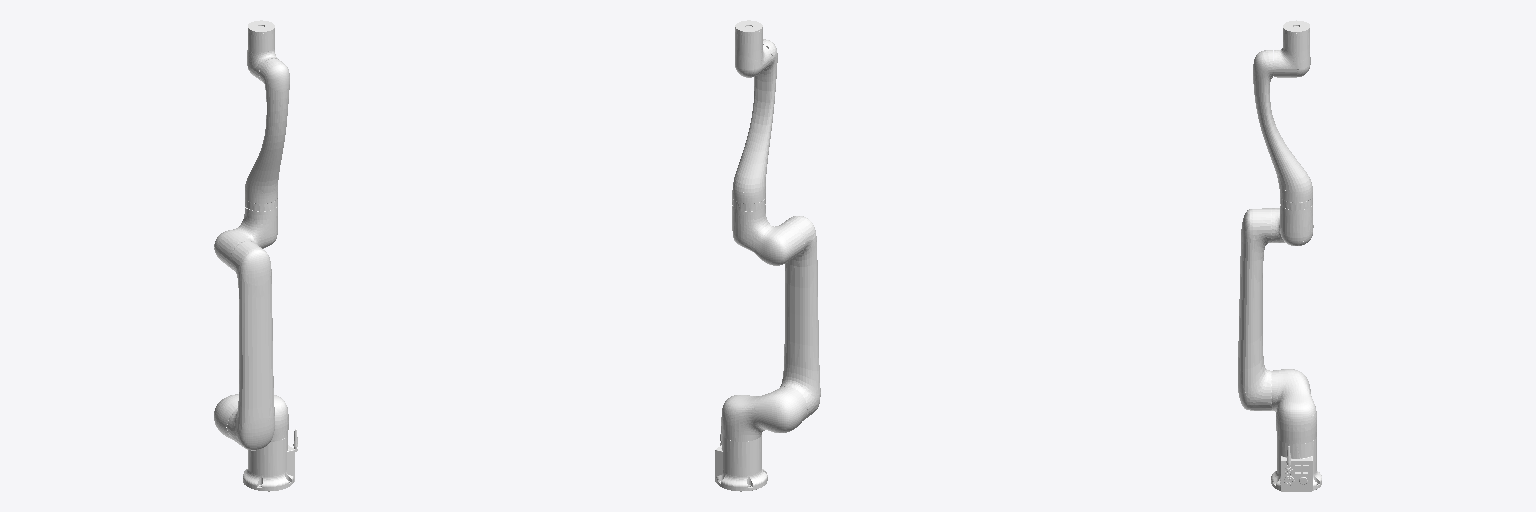
The robot description file, URDF, robot "rm_63_6f_description":
<?xml version="1.0" encoding="utf-8"?>
<!-- This URDF was automatically created by SolidWorks to URDF Exporter! Originally created by Stephen Brawner (brawner@gmail.com) 
     Commit Version: 1.6.0-1-g15f4949  Build Version: 1.6.7594.29634
     For more information, please see http://wiki.ros.org/sw_urdf_exporter -->
<robot
  name="rm_63_6f_description">
  <link
    name="base_link">
    <inertial>
      <origin
        xyz="0.0014213 -0.00010164 0.050087"
        rpy="0 0 0" />
      <mass
        value="1.862" />
      <inertia
        ixx="0.00099641"
        ixy="-3.2815E-06"
        ixz="1.0053E-05"
        iyy="0.0010164"
        iyz="-1.2859E-06"
        izz="0.00067934" />
    </inertial>
    <visual>
      <origin
        xyz="0 0 0"
        rpy="0 0 0" />
      <geometry>
        <mesh
          filename="package://rm_description/meshes/rm_63_arm/base_link.STL" />
      </geometry>
      <material
        name="">
        <color
          rgba="1 1 1 1" />
      </material>
    </visual>
    <collision>
      <origin
        xyz="0 0 0"
        rpy="0 0 0" />
      <geometry>
        <mesh
          filename="package://rm_description/meshes/rm_63_arm/base_link.STL" />
      </geometry>
    </collision>
  </link>
  <link
    name="Link1">
    <inertial>
      <origin
        xyz="-0.068442 -0.023913 -0.006938"
        rpy="0 0 0" />
      <mass
        value="1.837" />
      <inertia
        ixx="0.002323337"
        ixy="-0.000758998"
        ixz="0.000825985"
        iyy="0.003950377"
        iyz="0.000254693"
        izz="0.003921999" />
    </inertial>
    <visual>
      <origin
        xyz="0 0 0"
        rpy="0 0 0" />
      <geometry>
        <mesh
          filename="package://rm_description/meshes/rm_63_arm/link1.STL" />
      </geometry>
      <material
        name="">
        <color
          rgba="1 1 1 1" />
      </material>
    </visual>
    <collision>
      <origin
        xyz="0 0 0"
        rpy="0 0 0" />
      <geometry>
        <mesh
          filename="package://rm_description/meshes/rm_63_arm/link1.STL" />
      </geometry>
    </collision>
  </link>
  <joint
    name="joint1"
    type="revolute">
    <origin
      xyz="0 0 0.172"
      rpy="0 0 0" />
    <parent
      link="base_link" />
    <child
      link="Link1" />
    <axis
      xyz="0 0 1" />
    <limit
      lower="-3.106"
      upper="3.106"
      effort="60"
      velocity="3.14" />
  </joint>
  <link
    name="Link2">
    <inertial>
      <origin
        xyz="0.1667 -0.000002 -0.09259"
        rpy="0 0 0" />
      <mass
        value="2.006" />
      <inertia
        ixx="0.001465511"
        ixy="-0.000001176"
        ixz="-0.000161533"
        iyy="0.030618537"
        iyz="0.00000004"
        izz="0.030971934" />
    </inertial>
    <visual>
      <origin
        xyz="0 0 0"
        rpy="0 0 0" />
      <geometry>
        <mesh
          filename="package://rm_description/meshes/rm_63_arm/link2.STL" />
      </geometry>
      <material
        name="">
        <color
          rgba="1 1 1 1" />
      </material>
    </visual>
    <collision>
      <origin
        xyz="0 0 0"
        rpy="0 0 0" />
      <geometry>
        <mesh
          filename="package://rm_description/meshes/rm_63_arm/link2.STL" />
      </geometry>
    </collision>
  </link>
  <joint
    name="joint2"
    type="revolute">
    <origin
      xyz="-0.086 0 0"
      rpy="1.5708 -1.5708 3.14" />
    <parent
      link="Link1" />
    <child
      link="Link2" />
    <axis
      xyz="0 0 1" />
    <limit
      lower="-3.106"
      upper="3.106"
      effort="60"
      velocity="3.14" />
  </joint>
  <link
    name="Link3">
    <inertial>
      <origin
        xyz="0.033399 -0.029498 -0.017697"
        rpy="0 0 0" />
      <mass
        value="1.961" />
      <inertia
        ixx="0.004112772"
        ixy="0.001938241"
        ixz="-0.001141244"
        iyy="0.0042931"
        iyz="0.001002886"
        izz="0.005363959" />
    </inertial>
    <visual>
      <origin
        xyz="0 0 0"
        rpy="0 0 0" />
      <geometry>
        <mesh
          filename="package://rm_description/meshes/rm_63_arm/link3.STL" />
      </geometry>
      <material
        name="">
        <color
          rgba="1 1 1 1" />
      </material>
    </visual>
    <collision>
      <origin
        xyz="0 0 0"
        rpy="0 0 0" />
      <geometry>
        <mesh
          filename="package://rm_description/meshes/rm_63_arm/link3.STL" />
      </geometry>
    </collision>
  </link>
  <joint
    name="joint3"
    type="revolute">
    <origin
      xyz="0.38 0 0"
      rpy="0 0 1.5708" />
    <parent
      link="Link2" />
    <child
      link="Link3" />
    <axis
      xyz="0 0 1" />
    <limit
      lower="-3.106"
      upper="2.5307"
      effort="30"
      velocity="3.14" />
  </joint>
  <link
    name="Link4">
    <inertial>
      <origin
        xyz="0 -0.035177 -0.1844"
        rpy="0 0 0" />
      <mass
        value="1.201" />
      <inertia
        ixx="0.010697086"
        ixy="-0.000000036"
        ixz="0.000000111"
        iyy="0.009929454"
        iyz="0.002698114"
        izz="0.001388994" />
    </inertial>
    <visual>
      <origin
        xyz="0 0 0"
        rpy="0 0 0" />
      <geometry>
        <mesh
          filename="package://rm_description/meshes/rm_63_arm/link4.STL" />
      </geometry>
      <material
        name="">
        <color
          rgba="1 1 1 1" />
      </material>
    </visual>
    <collision>
      <origin
        xyz="0 0 0"
        rpy="0 0 0" />
      <geometry>
        <mesh
          filename="package://rm_description/meshes/rm_63_arm/link4.STL" />
      </geometry>
    </collision>
  </link>
  <joint
    name="joint4"
    type="revolute">
    <origin
      xyz="0.069 -0.405 0"
      rpy="1.5708 0 0" />
    <parent
      link="Link3" />
    <child
      link="Link4" />
    <axis
      xyz="0 0 1" />
    <limit
      lower="-3.106"
      upper="3.106"
      effort="30"
      velocity="3.14" />
  </joint>
  <link
    name="Link5">
    <inertial>
      <origin
        xyz="-0.000031 0.030146 -0.012341"
        rpy="0 0 0" />
      <mass
        value="1.026" />
      <inertia
        ixx="0.001643891"
        ixy="-0.000003076"
        ixz="0.000000764"
        iyy="0.000673543"
        iyz="-0.000383963"
        izz="0.001451996" />
    </inertial>
    <visual>
      <origin
        xyz="0 0 0"
        rpy="0 0 0" />
      <geometry>
        <mesh
          filename="package://rm_description/meshes/rm_63_arm/link5.STL" />
      </geometry>
      <material
        name="">
        <color
          rgba="1 1 1 1" />
      </material>
    </visual>
    <collision>
      <origin
        xyz="0 0 0"
        rpy="0 0 0" />
      <geometry>
        <mesh
          filename="package://rm_description/meshes/rm_63_arm/link5.STL" />
      </geometry>
    </collision>
  </link>
  <joint
    name="joint5"
    type="revolute">
    <origin
      xyz="0 0 0"
      rpy="1.5708 0 3.1416" />
    <parent
      link="Link4" />
    <child
      link="Link5" />
    <axis
      xyz="0 0 1" />
    <limit
      lower="-3.106"
      upper="3.106"
      effort="10"
      velocity="3.14" />
  </joint>
  <link
    name="Link6">
    <inertial>
      <origin
        xyz="-0.000481 0.000365 -0.010605"
        rpy="0 0 0" />
      <mass
        value="0.248" />
      <inertia
        ixx="0.000041460"
        ixy="-0.000003111"
        ixz="-0.000000113"
        iyy="0.000038008"
        iyz="0.000000097"
        izz="0.000064288" />
    </inertial>
    <visual>
      <origin
        xyz="0 0 0"
        rpy="0 0 0" />
      <geometry>
        <mesh
          filename="package://rm_description/meshes/rm_63_arm/link6_6f.STL" />
      </geometry>
      <material
        name="">
        <color
          rgba="1 1 1 1" />
      </material>
    </visual>
    <collision>
      <origin
        xyz="0 0 0"
        rpy="0 0 0" />
      <geometry>
        <mesh
          filename="package://rm_description/meshes/rm_63_arm/link6_6f.STL" />
      </geometry>
    </collision>
  </link>
  <joint
    name="joint6"
    type="revolute">
    <origin
      xyz="0 0.1436 0"
      rpy="1.5708 0 3.1416" />
    <parent
      link="Link5" />
    <child
      link="Link6" />
    <axis
      xyz="0 0 1" />
    <limit
      lower="-6.28"
      upper="6.28"
      effort="10"
      velocity="3.14" />
  </joint>
</robot>

--- Facts derived from the render (not from the file) ---
The picture shows the robot from 3 angles, left to right: view 1: azimuth 30°, elevation 25°; view 2: azimuth 150°, elevation 25°; view 3: azimuth 270°, elevation 25°; orthographic projection.
Robot: rm_63_6f_description — 7 links, 6 joints (6 revolute); root link base_link; default pose: every joint at zero.
Links seen in each view (by area): view 1: Link2, Link4, base_link, Link3, Link5, Link1; view 2: Link2, Link4, Link1, Link3, base_link, Link5; view 3: Link2, Link4, Link1, base_link, Link5, Link3.
Boxes of the visible links, bbox=[...] form: Link2: bbox=[227, 241, 274, 450]; Link4: bbox=[245, 59, 289, 211]; base_link: bbox=[243, 429, 297, 491]; Link3: bbox=[214, 206, 277, 269]; Link5: bbox=[247, 20, 278, 81]; Link1: bbox=[214, 394, 288, 441]; Link2: bbox=[780, 216, 820, 420]; Link4: bbox=[732, 39, 777, 211]; Link1: bbox=[721, 386, 807, 441]; Link3: bbox=[732, 204, 804, 265]; base_link: bbox=[715, 426, 767, 491]; Link5: bbox=[735, 20, 772, 77]; Link2: bbox=[1238, 208, 1271, 410]; Link4: bbox=[1253, 50, 1312, 209]; Link1: bbox=[1272, 369, 1316, 443]; base_link: bbox=[1271, 437, 1321, 491]; Link5: bbox=[1273, 20, 1310, 77]; Link3: bbox=[1272, 204, 1313, 245].
Size in the robot's own frame: 0.1921 by 0.1767 by 1.04 metres.
6 mesh visuals loaded from 7 distinct referenced files (6 binary STL); not drawn: 1 (reference not matched to a file when rendering).
